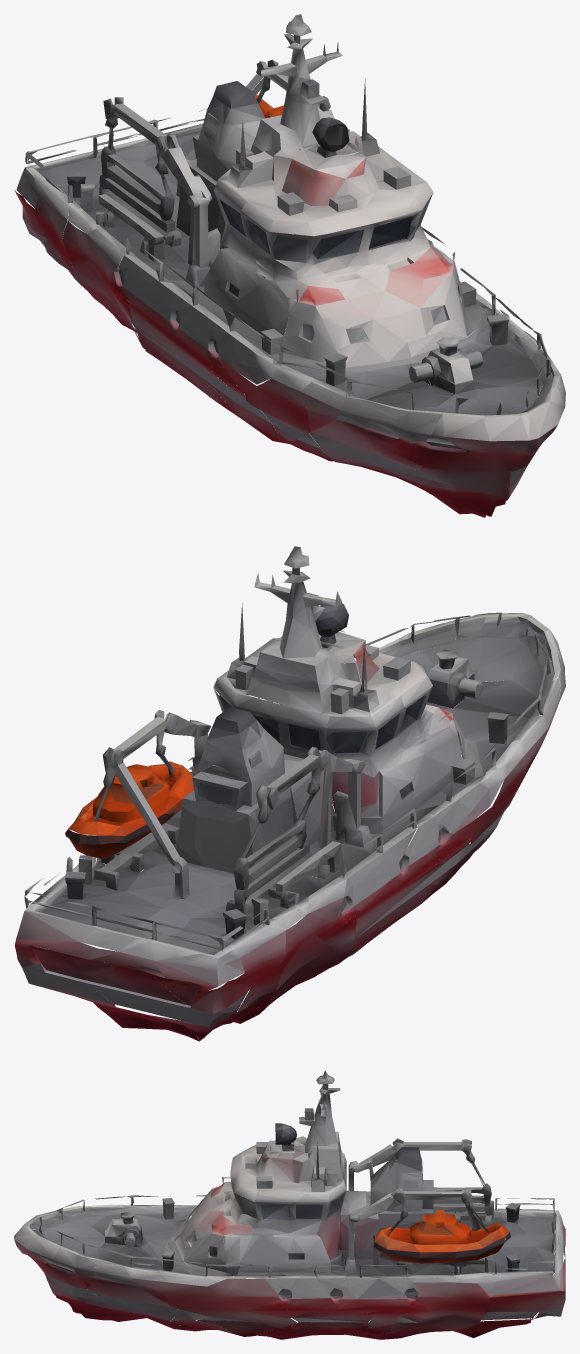
Rendered from building-rescueShip.glb.
3 renders of one model, top to bottom at view 1: azimuth 30°, elevation 25°; view 2: azimuth 150°, elevation 25°; view 3: azimuth 270°, elevation 25°, orthographic. The views are drawn at different scales.
Parts seen in each view (by area): view 1: 0_rescueShip; view 2: 0_rescueShip; view 3: 0_rescueShip.
Part boxes in pixels (left/top/right/bottom): 0_rescueShip: left=14, top=14, right=565, bottom=517; 0_rescueShip: left=14, top=546, right=565, bottom=1041; 0_rescueShip: left=14, top=1070, right=565, bottom=1339.
Size of the model in its own units: 9.14 by 13.75 by 27.98.
